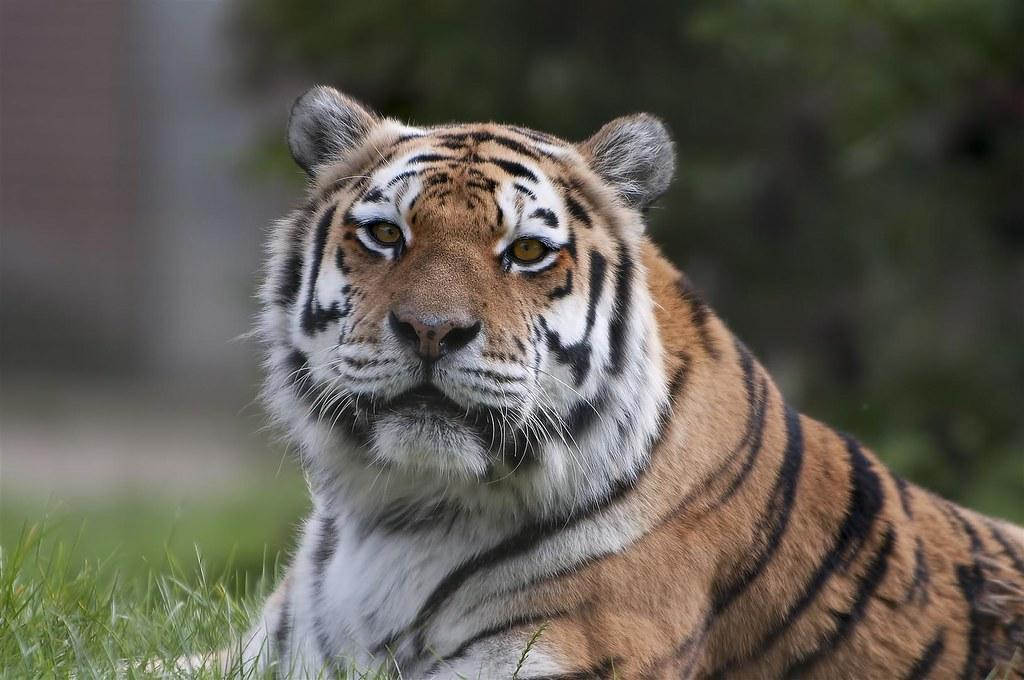tiger: (122, 83, 1023, 679)
